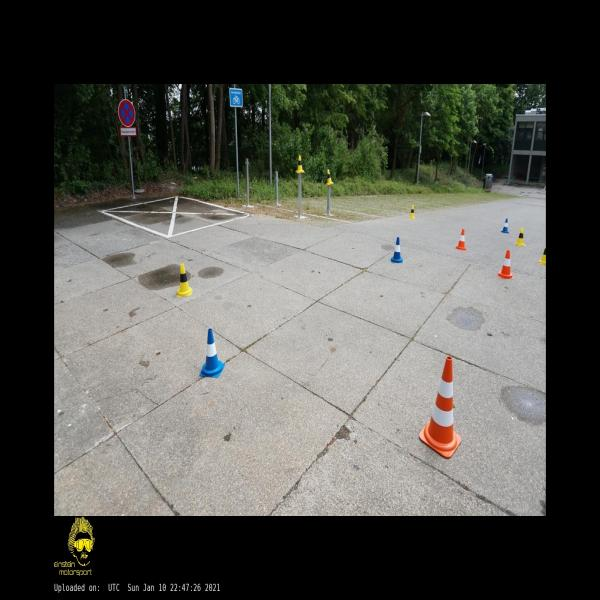blue_cone: (199, 329, 225, 378), (391, 236, 403, 263), (501, 218, 509, 234)
large_orange_cone: (419, 356, 461, 459)
orange_cone: (498, 250, 513, 278), (456, 229, 466, 250)
yellow_cone: (177, 264, 192, 296), (515, 227, 525, 246), (538, 247, 546, 265), (296, 155, 304, 173), (326, 170, 334, 186), (409, 204, 415, 218)
